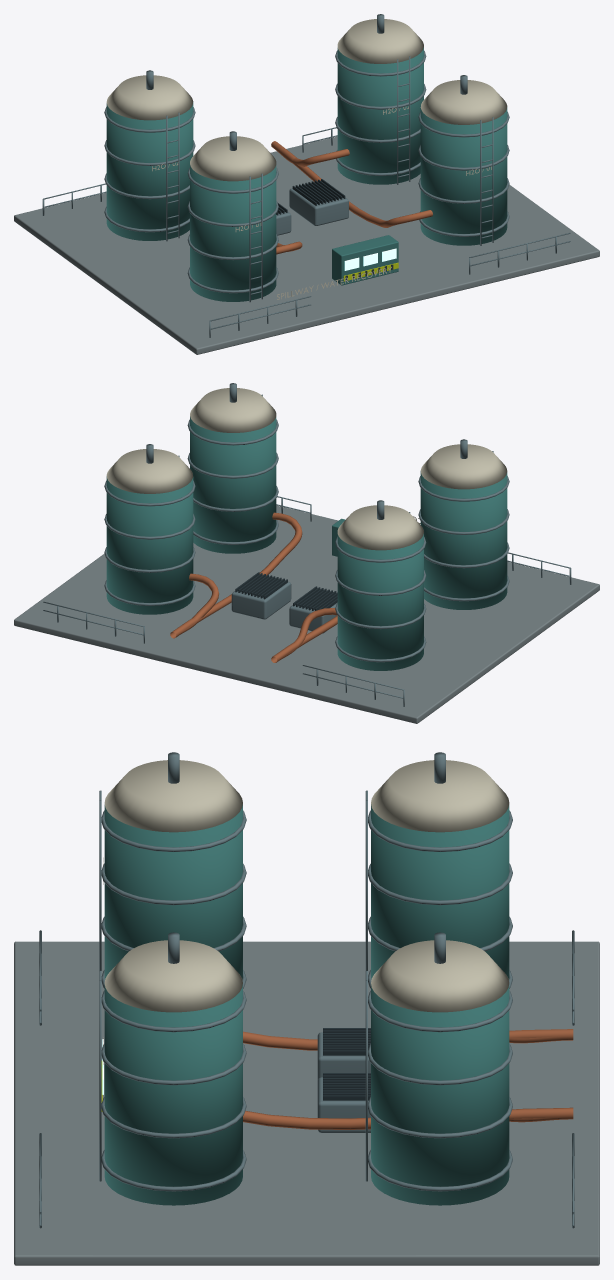
The model's file is pump_station.glb.
3 views of the same model, one above another, from view 1: azimuth 30°, elevation 25°; view 2: azimuth 150°, elevation 25°; view 3: azimuth 270°, elevation 25° (orthographic). The views are drawn at different scales.
Visible parts, largest first — view 1: pump_station; view 2: pump_station; view 3: pump_station.
Part boxes in pixels (x1,y1,x2,y2): pump_station: [14, 14, 599, 354]; pump_station: [14, 383, 599, 723]; pump_station: [14, 752, 599, 1265].
Bounding box in the file's own units: 28 × 10.94 × 22.
